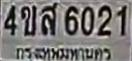0: (80, 5, 93, 35)
1: (116, 4, 126, 35)
2: (96, 4, 110, 35)
4: (3, 4, 16, 35)
6: (64, 5, 77, 34)
A02: (20, 5, 36, 35)
A40: (40, 1, 57, 35)
BKK: (14, 45, 113, 61)
